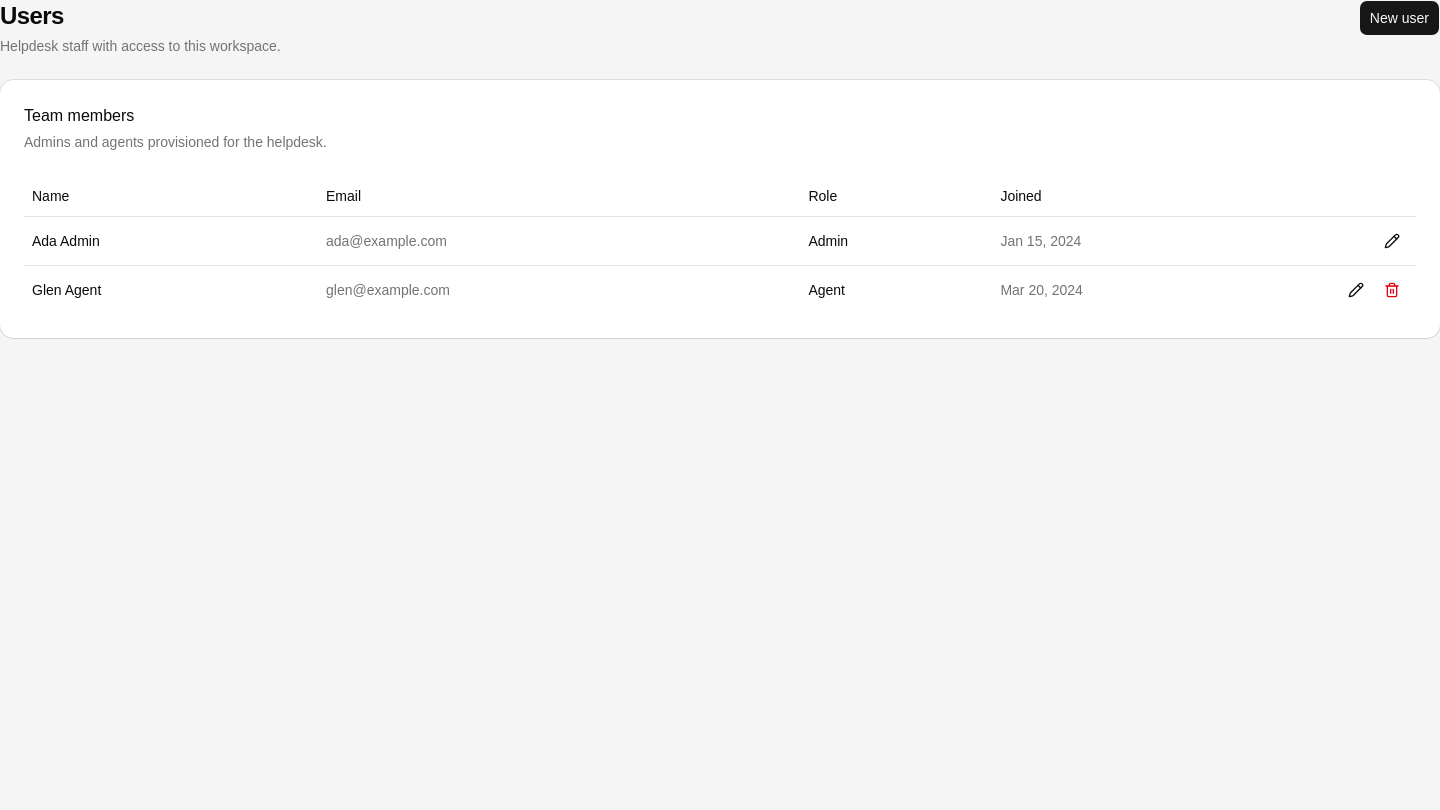
Test: UsersPage — create user dialog › hides the dialog when the Escape key is pressed
Expected: the text "Ada Admin" is shown, [32,232,100,248]
Click the button "New user" at (1399, 18), box [1359,0,1439,36]
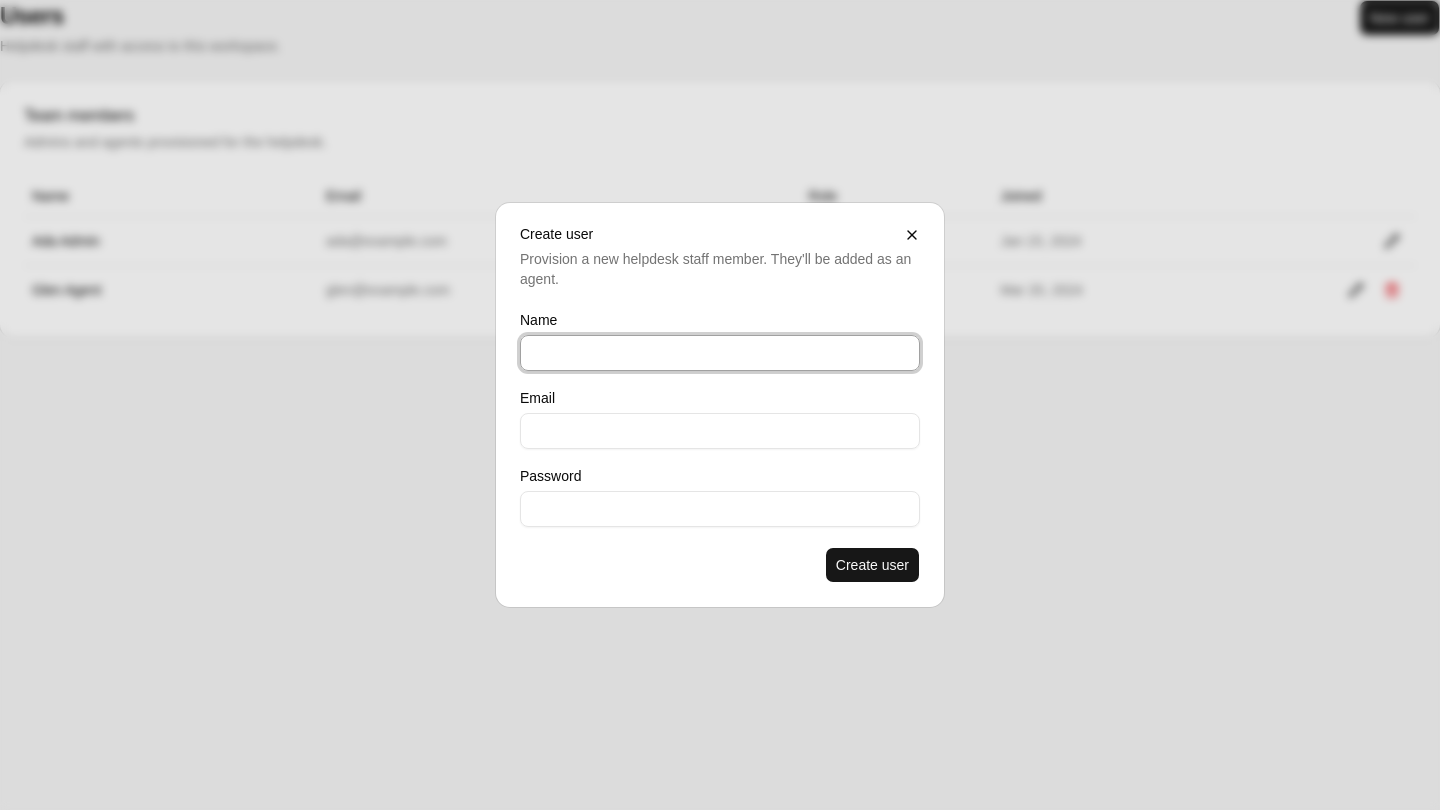
Expected: the dialog is shown, [496,203,944,607]
Press Escape
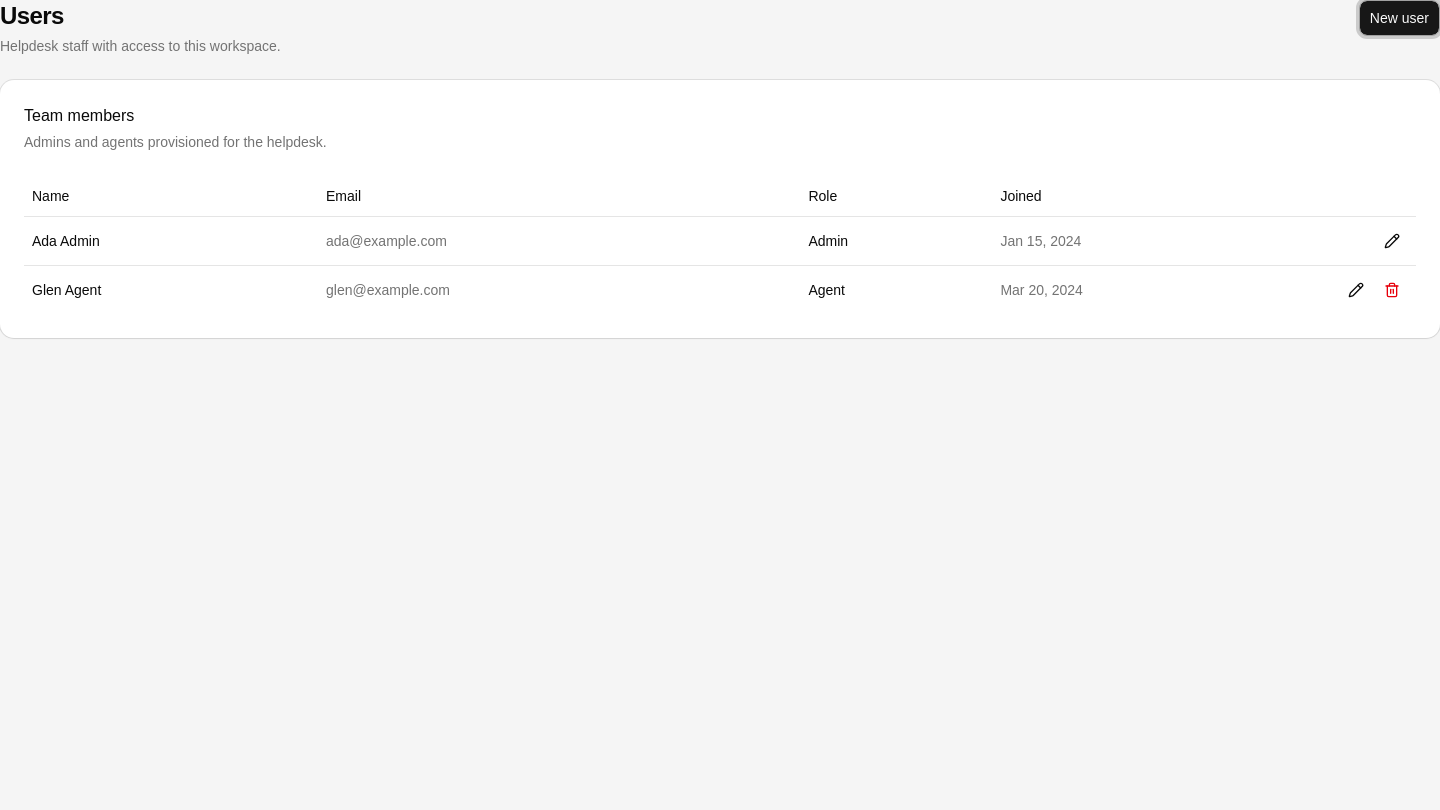
Expected: the dialog is gone
